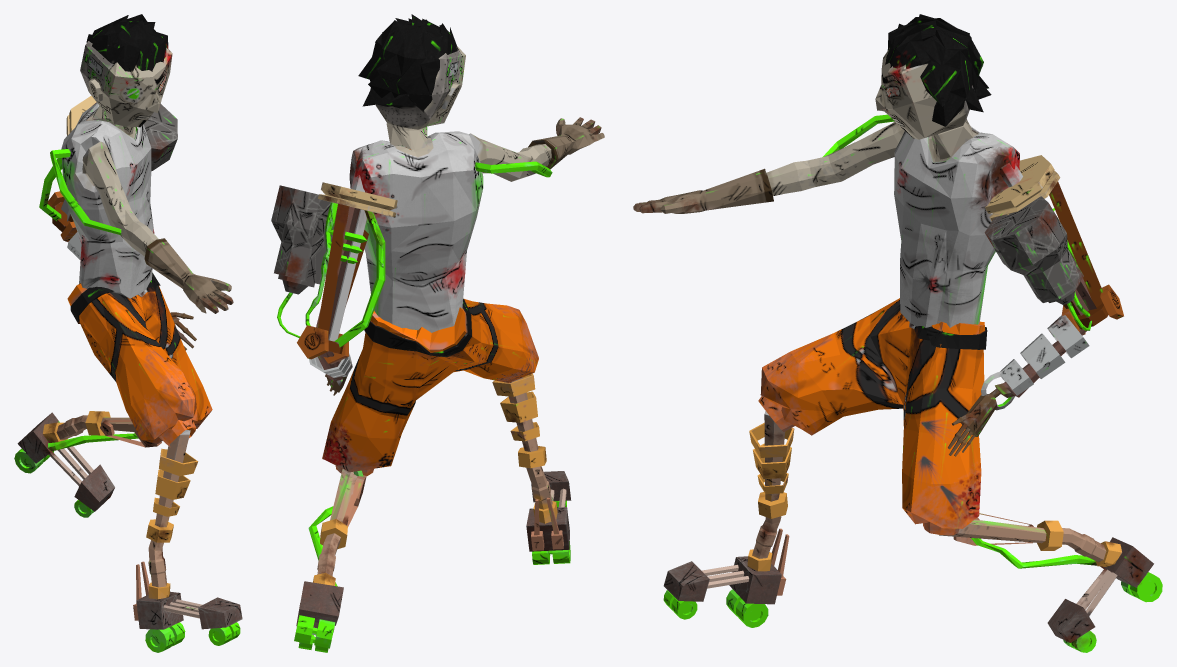
Rendered from CyborgFINALAnimation_000008.obj.
3 renders of one model, left to right at view 1: azimuth 30°, elevation 25°; view 2: azimuth 150°, elevation 25°; view 3: azimuth 270°, elevation 25°, orthographic. The views are drawn at different scales.
Visible parts, largest first — view 1: CyborgMesh_Cube.002; view 2: CyborgMesh_Cube.002; view 3: CyborgMesh_Cube.002.
Part boxes in pixels (bbox=[...]): CyborgMesh_Cube.002: bbox=[14, 14, 242, 652]; CyborgMesh_Cube.002: bbox=[271, 14, 604, 652]; CyborgMesh_Cube.002: bbox=[633, 14, 1162, 652].
Size of the model in its own units: 2.89 by 8.65 by 6.63.
